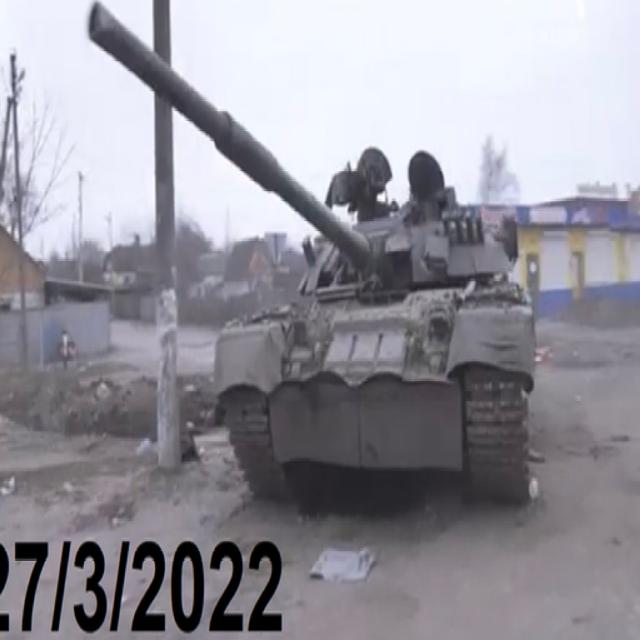TANK: (86, 2, 546, 520)
